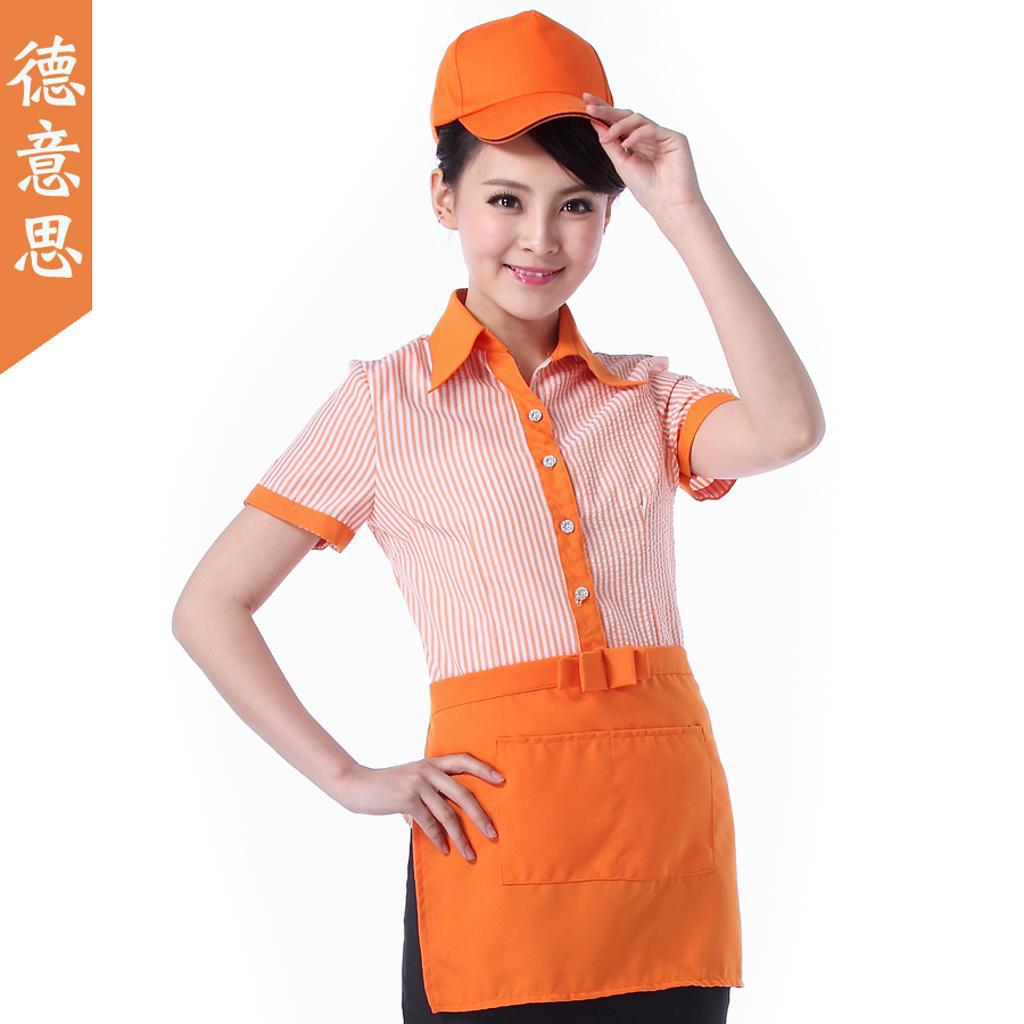face: (459, 123, 609, 321)
